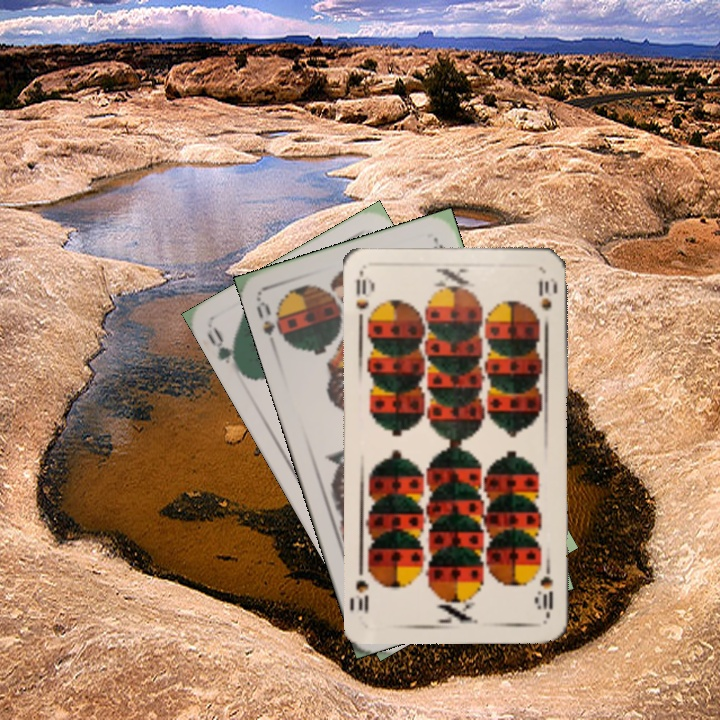GO: (202, 323, 245, 376)
S10: (352, 271, 375, 330), (535, 560, 556, 619)
SO: (252, 295, 291, 353)
